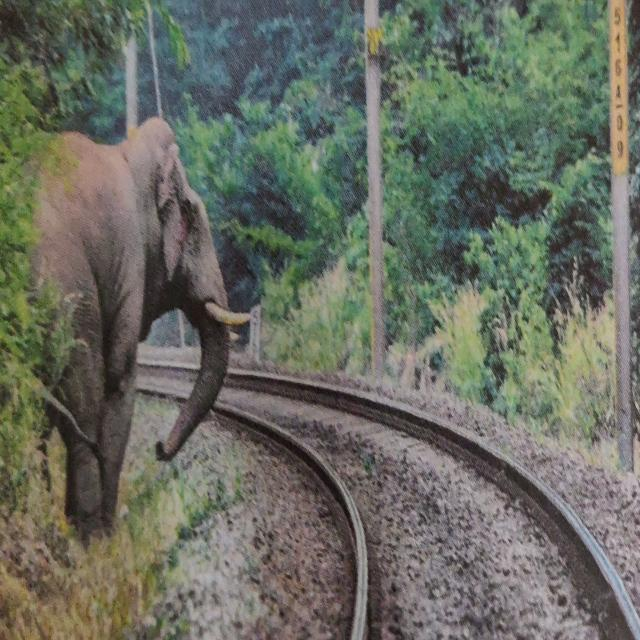Elephant: (26, 100, 260, 548)
